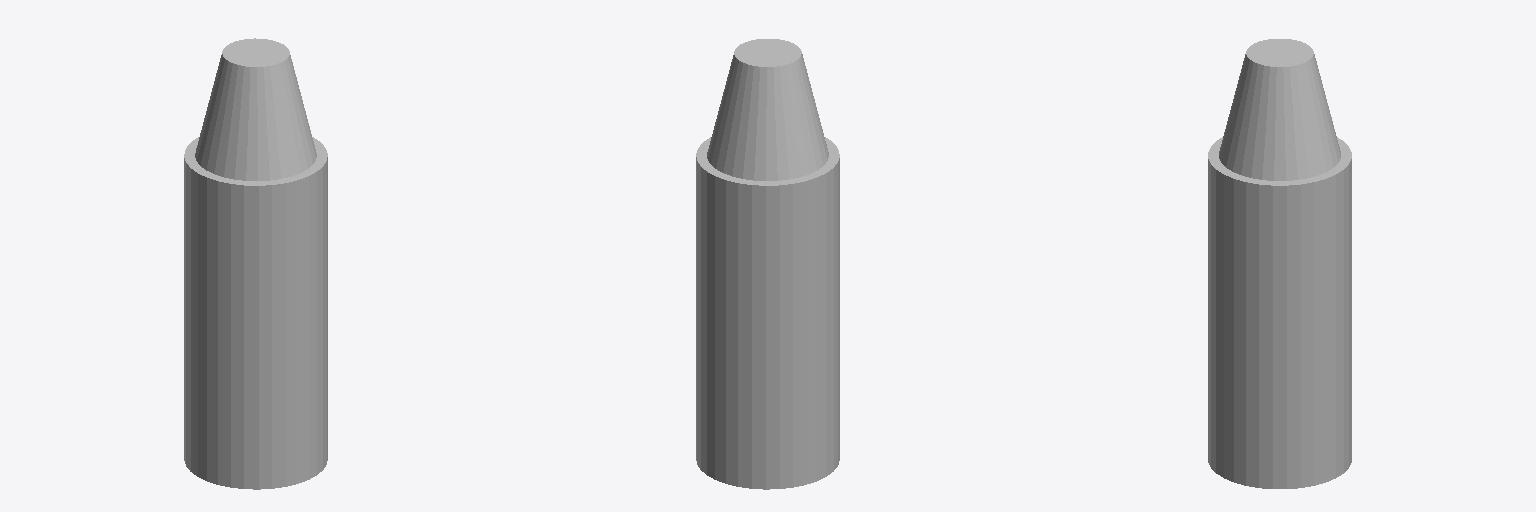
File: crayon.obj
The picture shows the model from 3 angles: view 1: azimuth 30°, elevation 25°; view 2: azimuth 150°, elevation 25°; view 3: azimuth 270°, elevation 25°; orthographic projection.
Visible parts, largest first — view 1: char_eattool_carrot; view 2: char_eattool_carrot; view 3: char_eattool_carrot.
Part boxes in pixels (left/top/right/bottom): char_eattool_carrot: left=184, top=38, right=327, bottom=489; char_eattool_carrot: left=696, top=39, right=839, bottom=489; char_eattool_carrot: left=1208, top=39, right=1351, bottom=488.
Bounding box in the file's own units: 0.6316 × 1.98 × 0.6344.